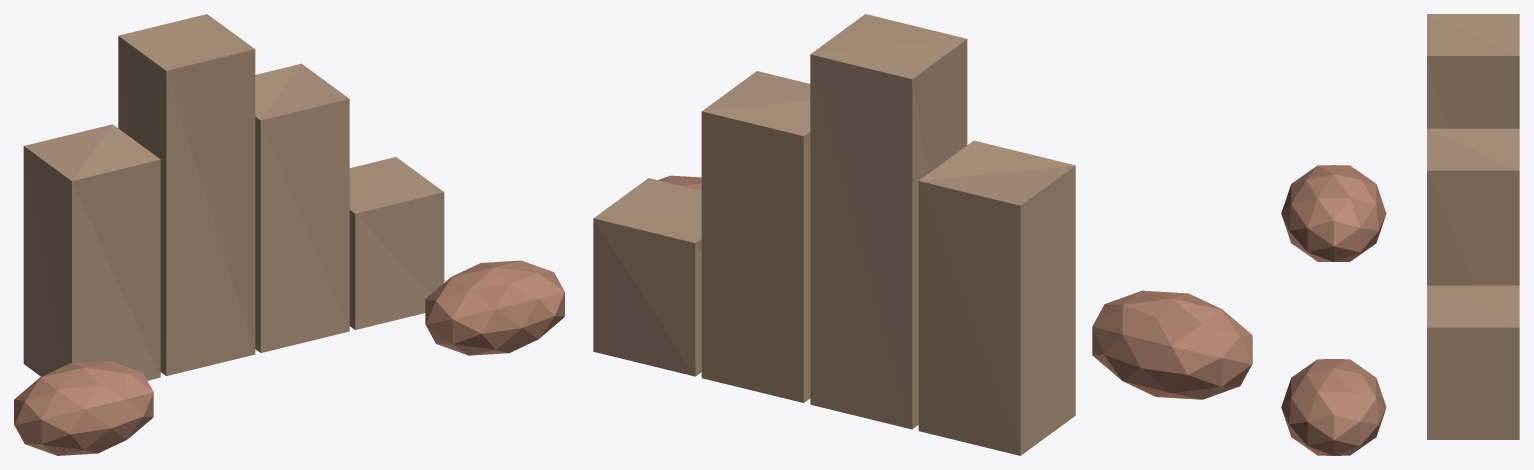
The model's file is ruined_wall.glb.
The picture shows the model from 3 angles, left to right: view 1: azimuth 30°, elevation 25°; view 2: azimuth 150°, elevation 25°; view 3: azimuth 270°, elevation 25°; orthographic projection. The views are drawn at different scales.
Visible parts, largest first — view 1: wall_piece_1, wall_piece_0, wall_piece_2, wall_piece_3, fallen_block_1, fallen_block_0; view 2: wall_piece_1, wall_piece_0, wall_piece_2, wall_piece_3, fallen_block_0; view 3: wall_piece_2, wall_piece_3, wall_piece_1, fallen_block_0, fallen_block_1.
Part boxes in pixels (box(x1,y1,x2,y2)): wall_piece_1: box(118, 14, 255, 375); wall_piece_0: box(23, 124, 160, 380); wall_piece_2: box(255, 63, 349, 352); wall_piece_3: box(349, 157, 444, 329); fallen_block_1: box(425, 260, 564, 355); fallen_block_0: box(14, 361, 153, 455); wall_piece_1: box(810, 14, 967, 429); wall_piece_0: box(918, 140, 1075, 455); wall_piece_2: box(701, 71, 810, 402); wall_piece_3: box(593, 178, 701, 376); fallen_block_0: box(1092, 290, 1252, 399); wall_piece_2: box(1427, 128, 1519, 285); wall_piece_3: box(1427, 285, 1519, 439); wall_piece_1: box(1427, 14, 1519, 128); fallen_block_0: box(1281, 165, 1386, 261); fallen_block_1: box(1281, 359, 1386, 455).
Size of the model in its own units: 1.98 by 1.07 by 0.77.
